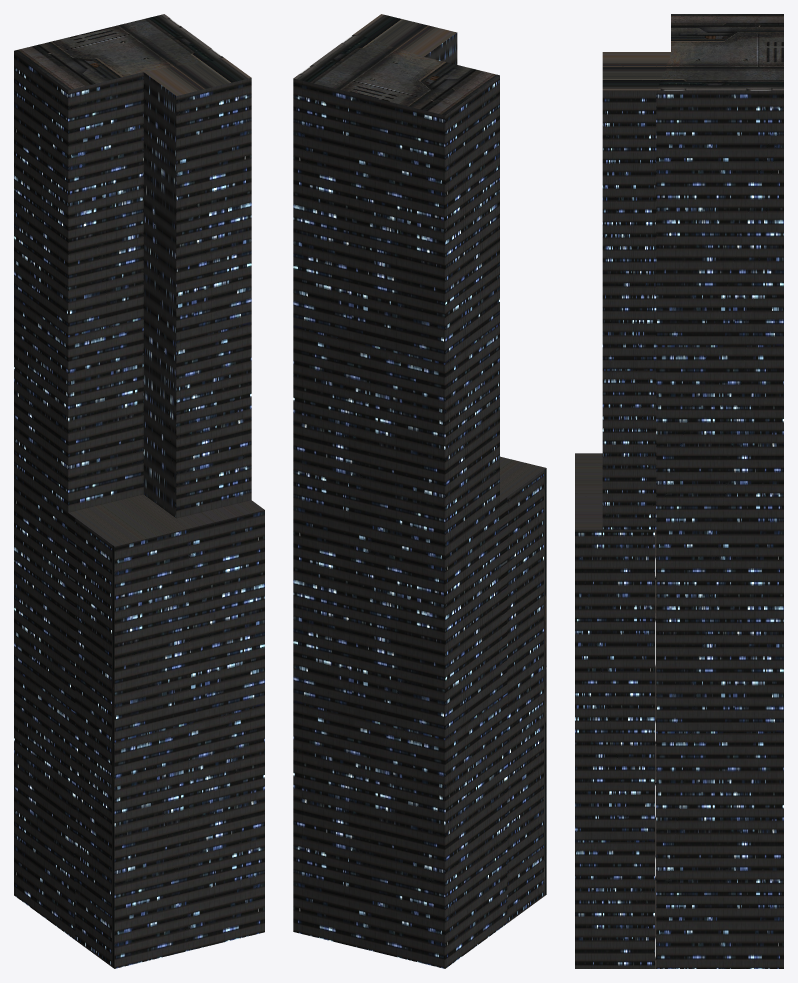
The model's file is s_03_08-new-building.031.glb.
3 renders of one model, left to right at view 1: azimuth 30°, elevation 25°; view 2: azimuth 150°, elevation 25°; view 3: azimuth 270°, elevation 25°, orthographic. The views are drawn at different scales.
Visible parts, largest first — view 1: Cube.031; view 2: Cube.031; view 3: Cube.031.
Boxes of the visible parts, x1=… form: Cube.031: x1=14, y1=14, x2=264, y2=968; Cube.031: x1=293, y1=14, x2=546, y2=968; Cube.031: x1=575, y1=14, x2=783, y2=968.
Size of the model in its own units: 39.05 by 210 by 45.18.
Materials: 1 (1 with a texture image).
